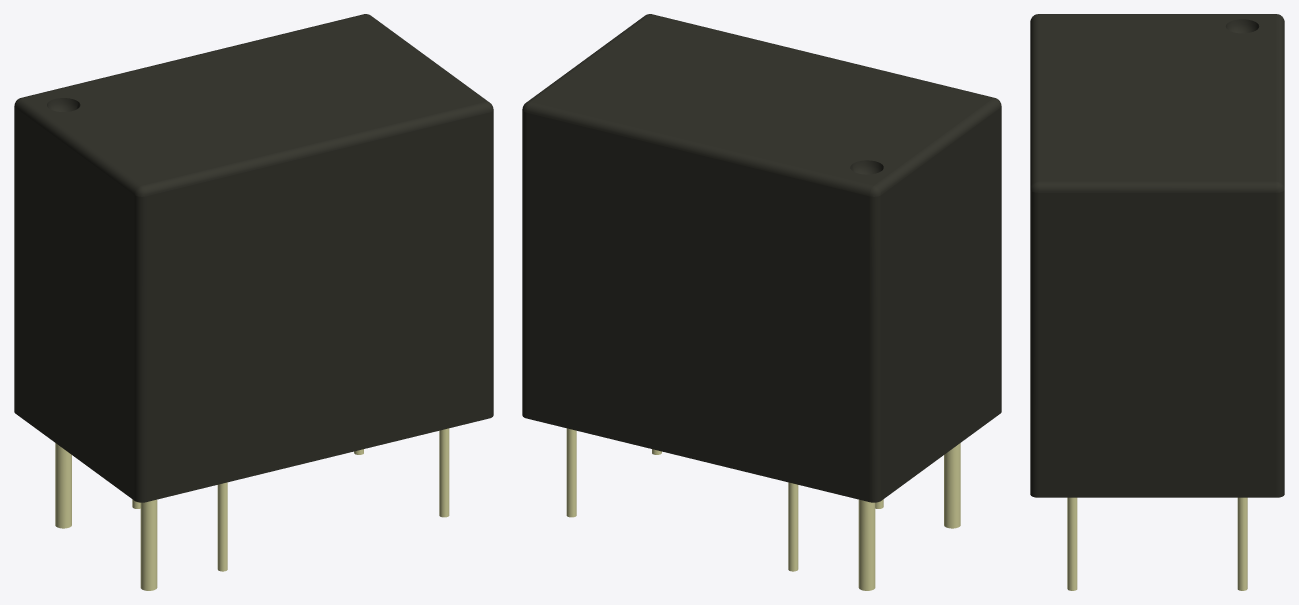
Rendered from kc-relay_spdt_hsinda_y14.glb.
3 renders of one model, left to right at view 1: azimuth 30°, elevation 25°; view 2: azimuth 150°, elevation 25°; view 3: azimuth 270°, elevation 25°, orthographic.
Visible parts, largest first — view 1: 0_0_0_0, 0.8333333333333334_0.8333333333333334_0.4166666666666667_0.9; view 2: 0_0_0_0, 0.8333333333333334_0.8333333333333334_0.4166666666666667_0.9; view 3: 0_0_0_0, 0.8333333333333334_0.8333333333333334_0.4166666666666667_0.9.
Part boxes in pixels (x1,y1,x2,y2): 0_0_0_0: (14, 14, 493, 502); 0.8333333333333334_0.8333333333333334_0.4166666666666667_0.9: (55, 428, 449, 590); 0_0_0_0: (522, 14, 1001, 502); 0.8333333333333334_0.8333333333333334_0.4166666666666667_0.9: (566, 428, 960, 590); 0_0_0_0: (1030, 14, 1284, 497); 0.8333333333333334_0.8333333333333334_0.4166666666666667_0.9: (1067, 497, 1247, 590).
Bounding box in the file's own units: 1.23 × 1.38 × 0.76.
